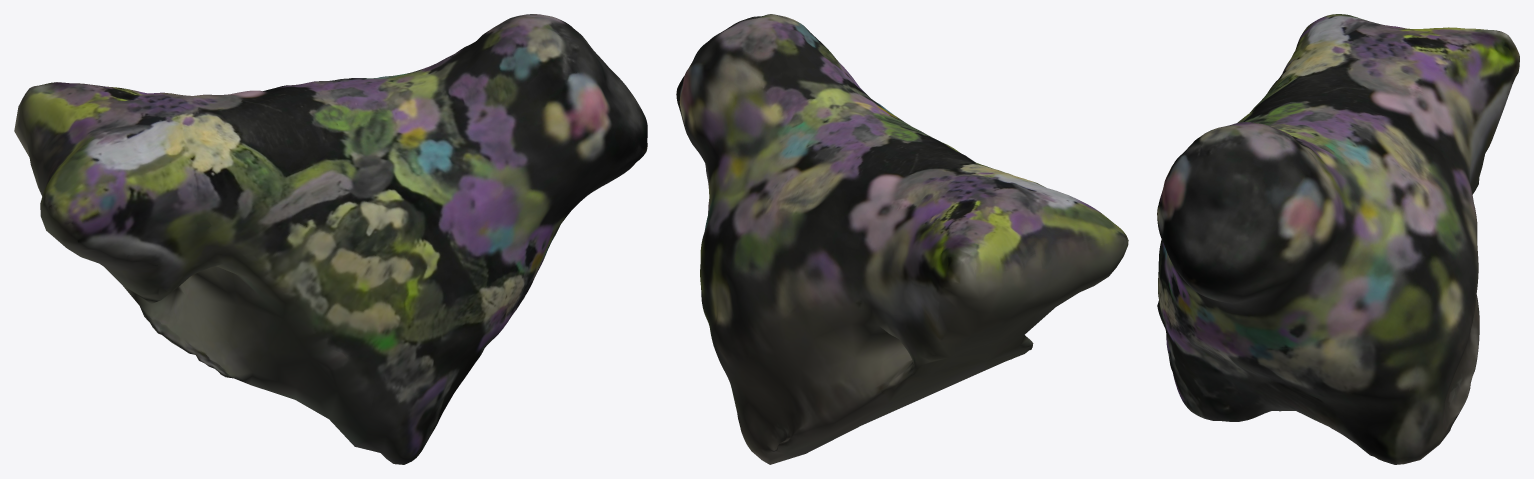
3 renders of one model, left to right at view 1: azimuth 30°, elevation 25°; view 2: azimuth 150°, elevation 25°; view 3: azimuth 270°, elevation 25°, orthographic. The views are drawn at different scales.
Bounding box in the file's own units: 0.5507 × 0.3914 × 0.3416.
1 material, 1 textured.
